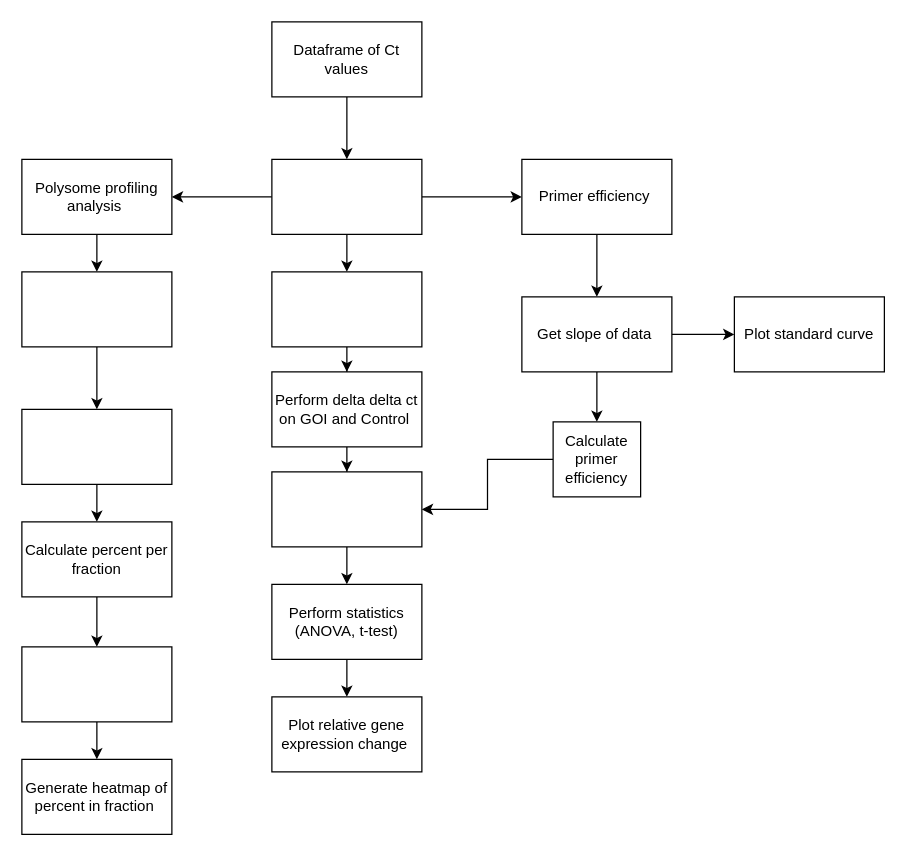
This 906x856 diagram has some shape labels left out. Each missing label, with the box of its shape:
account for primer efficiency: (271, 471, 422, 547)
Delta delta ct: (21, 271, 172, 347)
generate dataframe with percents and stats: (21, 646, 172, 722)
Import data and select data type: (271, 158, 422, 234)
Pffafl analysis: (271, 271, 422, 347)
Sum total percent: (21, 408, 172, 484)
